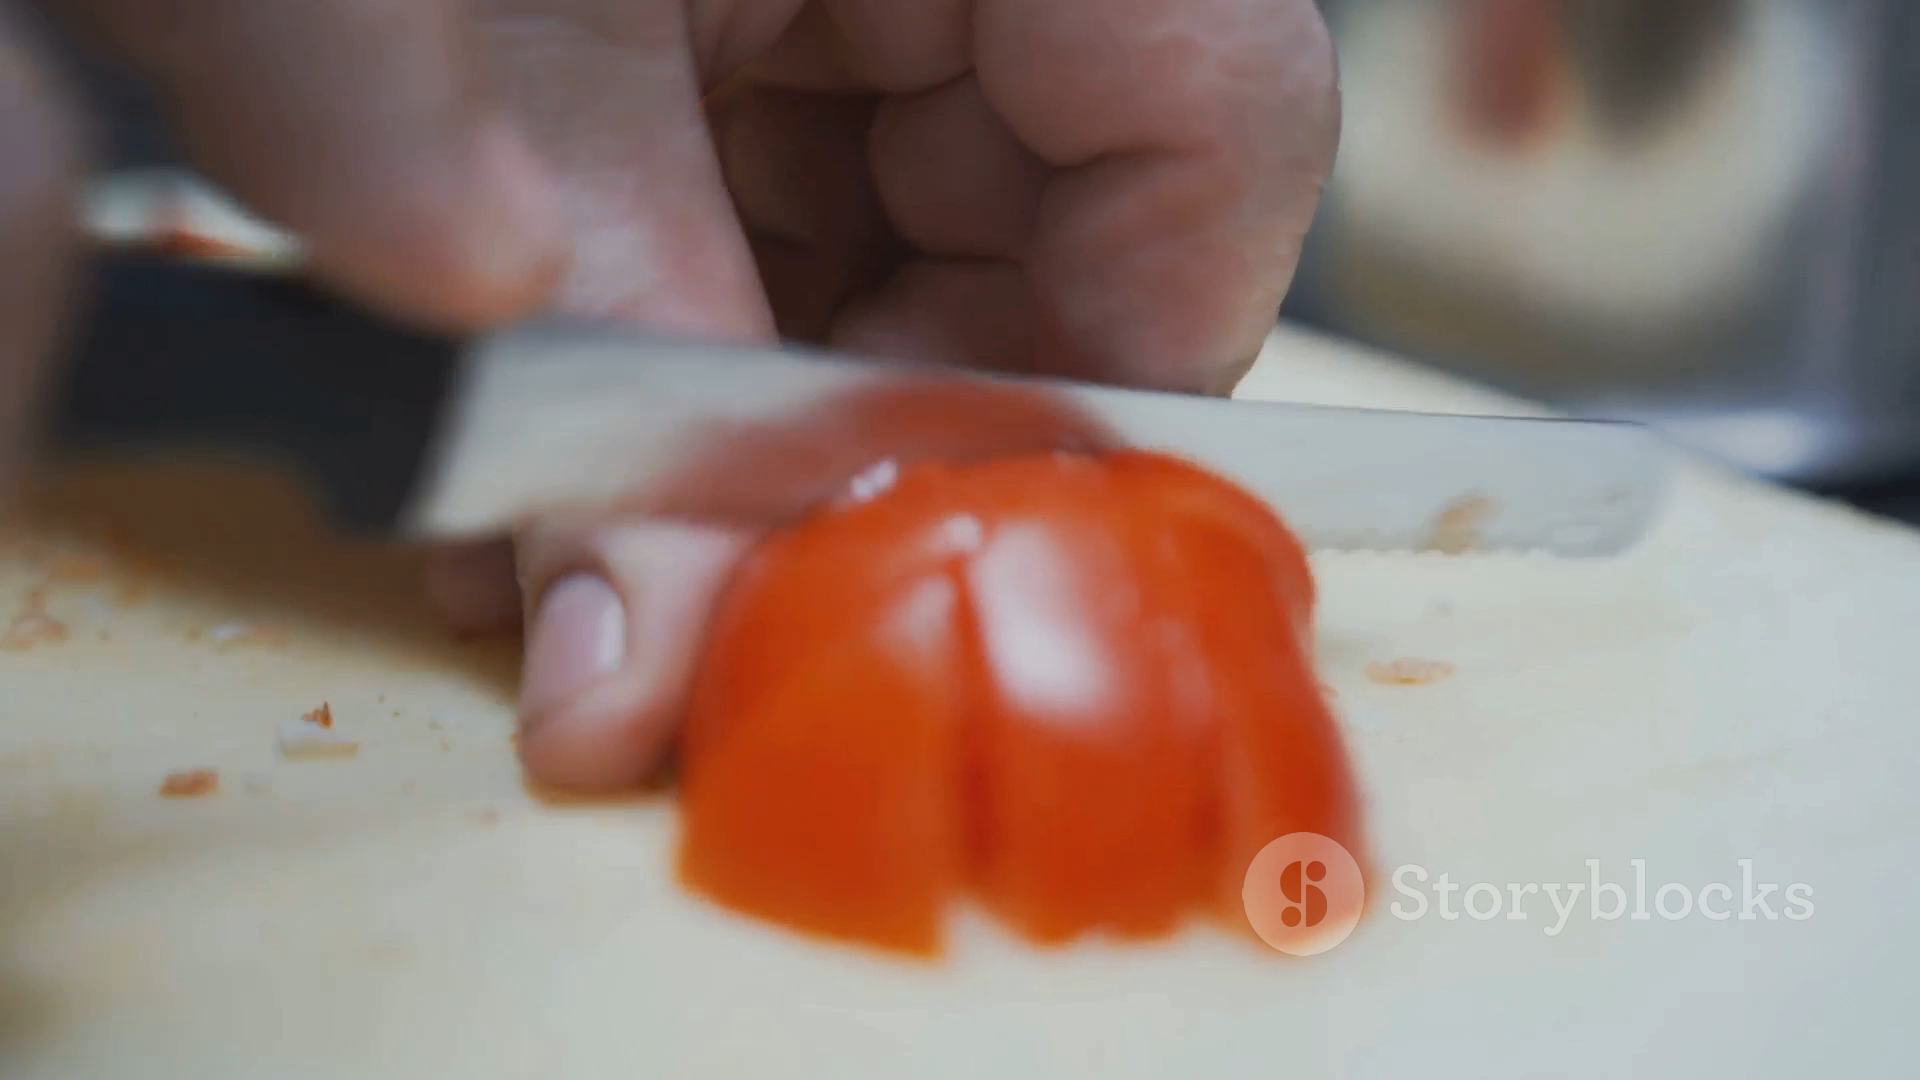cortante: (411, 313, 1677, 563)
